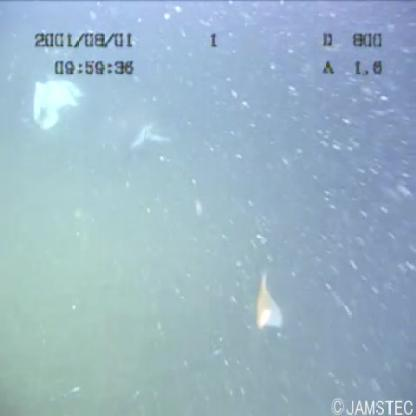Bio: (248, 270, 292, 334)
Rác: (22, 70, 88, 138), (128, 122, 168, 152)
